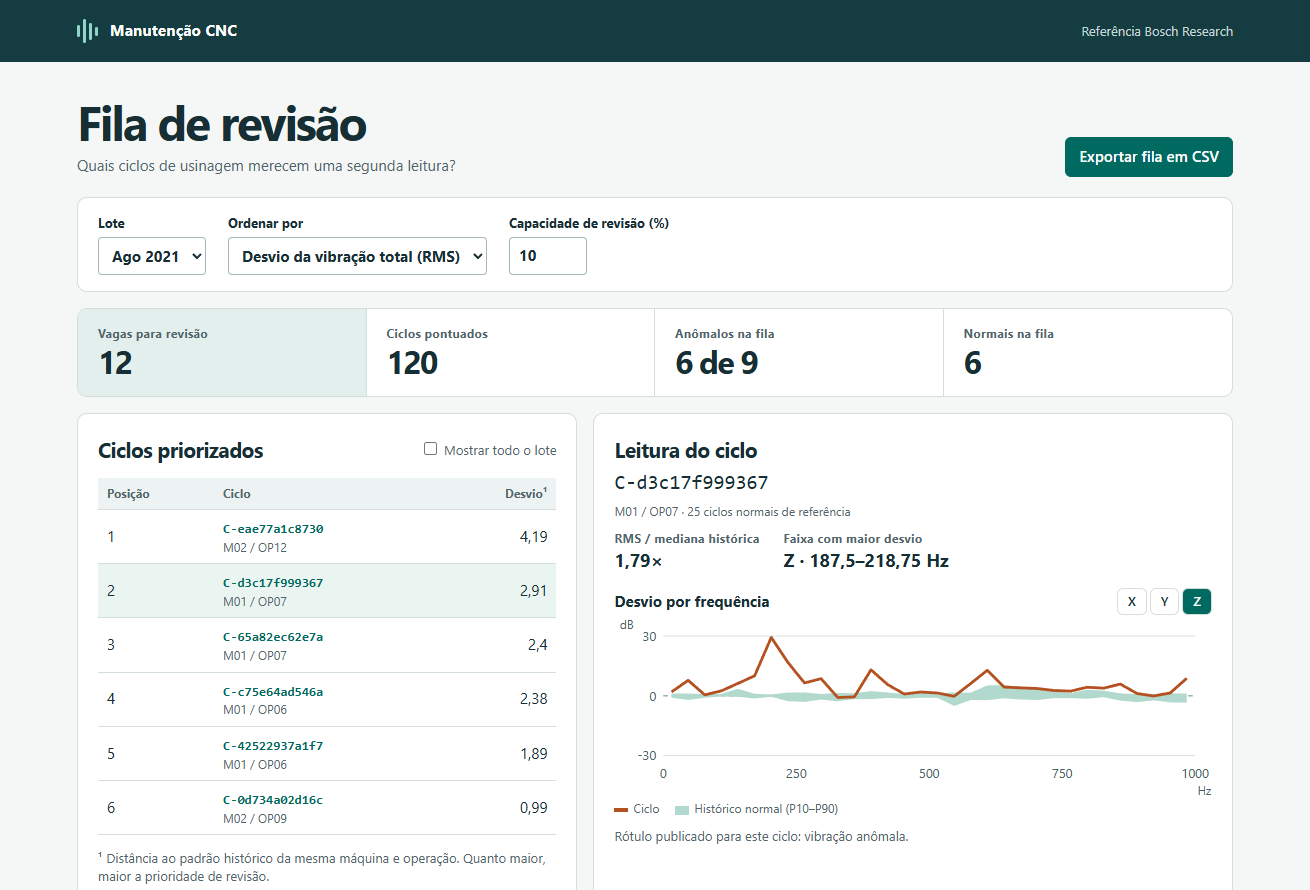

What the dashboard file says about the page in this screenshot:
{"tool":"powerbi","page":{"name":"Fila para revisão","canvas":[1280,720],"ordinal":1},"visuals":[{"type":"textbox","box":[23,14,754,92],"z":14},{"type":"slicer","fields":{"Values":["Ciclos.Período"]},"box":[790,18,224,70],"z":18},{"type":"slicer","fields":{"Values":["Ciclos.Máquina"]},"box":[1026,18,227,70],"z":18},{"type":"clusteredBarChart","title":"Ciclos na fila por máquina","fields":{"Category":["Ciclos.Máquina"],"Y":["Ciclos.Ciclos na fila"]},"box":[25,114,480,190],"z":114},{"type":"card","fields":{"Values":["Ciclos.Ciclos na fila"]},"box":[520,114,225,190],"z":114},{"type":"card","fields":{"Values":["Ciclos.Anômalos na fila"]},"box":[757,114,235,190],"z":114},{"type":"card","fields":{"Values":["Ciclos.Precisão"]},"box":[1004,114,249,190],"z":114},{"type":"tableEx","title":"Ciclos selecionados para revisão","fields":{"Values":["Ciclos.Período","Ciclos.Ordem RMS","Ciclos.Ciclo","Ciclos.Máquina","Ciclos.Operação","Ciclos.RMS relativo","Ciclos.Eixo","Ciclos.Faixa Hz","Ciclos.Rótulo"]},"box":[25,318,1229,325],"z":318},{"type":"textbox","box":[24,654,1230,56],"z":654}]}

Visuals, with their boxes on the page's 1280x720 design canvas (x1, y1, x2, y2). These are canvas units, not pixel positions in the 1310x890 screenshot, which may show the page scaled, cropped or inside an application window:
textbox: 23/14/777/106
slicer - Ciclos.Período: 790/18/1014/88
slicer - Ciclos.Máquina: 1026/18/1253/88
"Ciclos na fila por máquina" clusteredBarChart: 25/114/505/304
card - Ciclos.Ciclos na fila: 520/114/745/304
card - Ciclos.Anômalos na fila: 757/114/992/304
card - Ciclos.Precisão: 1004/114/1253/304
"Ciclos selecionados para revisão" tableEx: 25/318/1254/643
textbox: 24/654/1254/710
